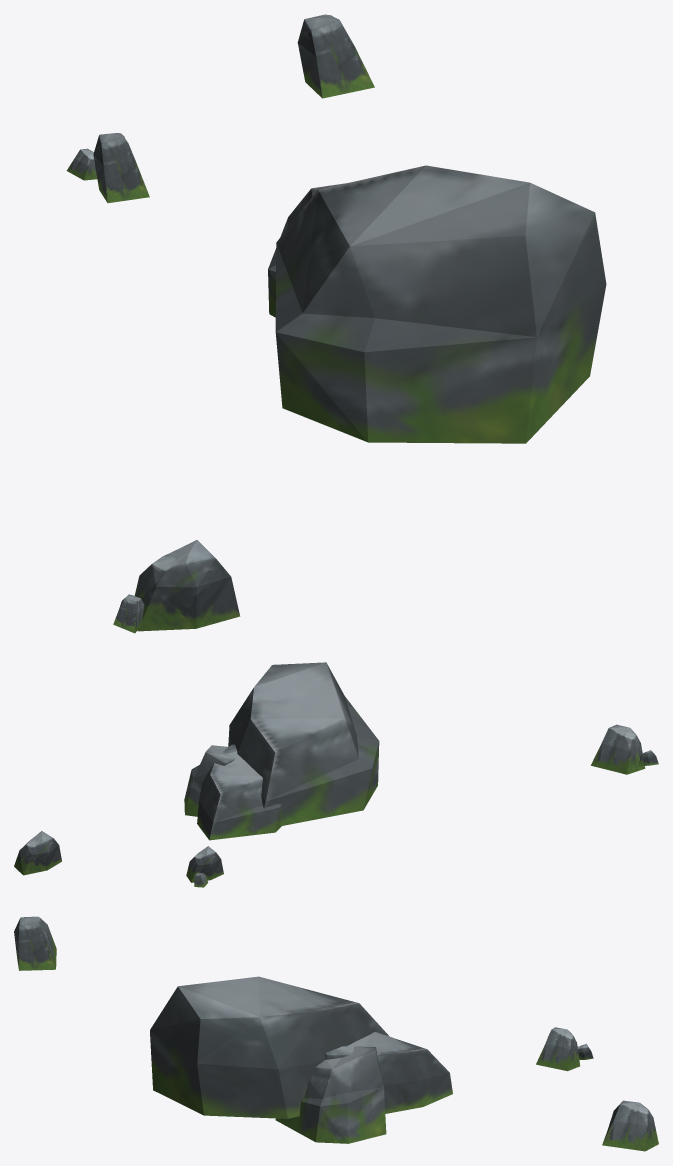
Rendered from Area09_15_y.FBX.
3 views of the same model, one above another, from view 1: azimuth 30°, elevation 25°; view 2: azimuth 150°, elevation 25°; view 3: azimuth 270°, elevation 25° (orthographic). The views are drawn at different scales.
Parts seen in each view (by area): view 1: Area09_15_y; view 2: Area09_15_y; view 3: Area09_15_y.
Part boxes in pixels (x1,y1,x2,y2): Area09_15_y: (66, 14, 606, 633); Area09_15_y: (14, 662, 658, 887); Area09_15_y: (14, 916, 658, 1151).
Bounding box in the file's own units: 3052 × 768 × 3802.
1 material, 1 textured.
